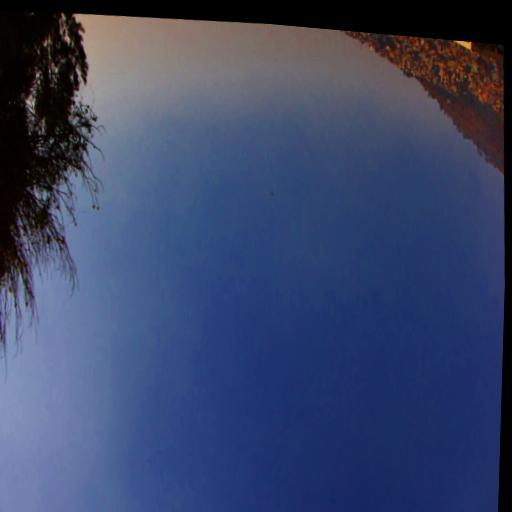drones: (268, 190, 275, 196)
